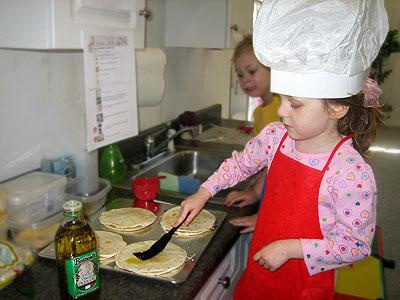person: (174, 27, 377, 300)
